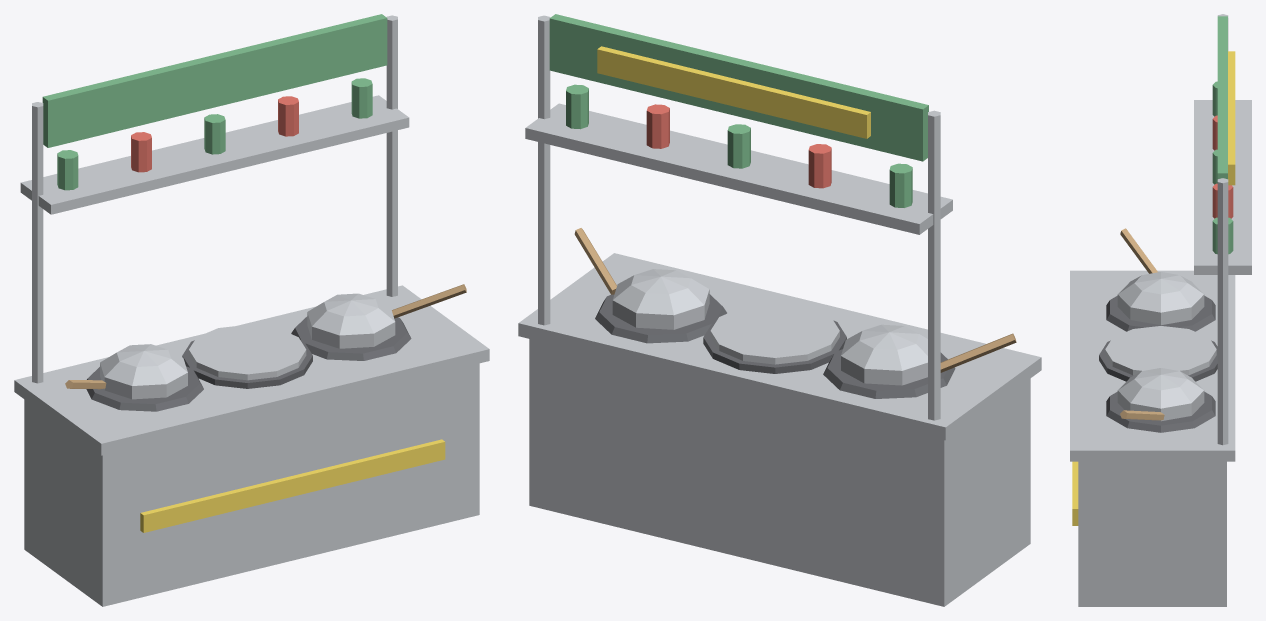
Rendered from street-food-market-and-food-trucks-wok-and-crepe-stati-d65a4291__34289.glb.
3 renders of one model, left to right at view 1: azimuth 30°, elevation 25°; view 2: azimuth 150°, elevation 25°; view 3: azimuth 270°, elevation 25°, orthographic. The views are drawn at different scales.
Parts seen in each view (by area): view 1: wok-and-crepe-station-steel, wok-and-crepe-station-leaf, wok-and-crepe-station-canary, wok-and-crepe-station-charcoal, wok-and-crepe-station-scarlet, wok-and-crepe-station-timber; view 2: wok-and-crepe-station-steel, wok-and-crepe-station-leaf, wok-and-crepe-station-canary, wok-and-crepe-station-charcoal, wok-and-crepe-station-scarlet, wok-and-crepe-station-timber; view 3: wok-and-crepe-station-steel, wok-and-crepe-station-charcoal, wok-and-crepe-station-leaf, wok-and-crepe-station-canary, wok-and-crepe-station-timber, wok-and-crepe-station-scarlet.
Boxes of the visible parts, x1,y1,x2,y2 form: wok-and-crepe-station-steel: [14, 15, 489, 606]; wok-and-crepe-station-leaf: [42, 14, 387, 190]; wok-and-crepe-station-canary: [140, 439, 445, 532]; wok-and-crepe-station-charcoal: [86, 316, 411, 411]; wok-and-crepe-station-scarlet: [131, 96, 298, 172]; wok-and-crepe-station-timber: [65, 284, 466, 389]; wok-and-crepe-station-steel: [518, 15, 1041, 606]; wok-and-crepe-station-leaf: [549, 14, 928, 207]; wok-and-crepe-station-canary: [597, 46, 870, 138]; wok-and-crepe-station-charcoal: [595, 294, 955, 398]; wok-and-crepe-station-scarlet: [646, 104, 831, 188]; wok-and-crepe-station-timber: [574, 228, 1016, 372]; wok-and-crepe-station-steel: [1070, 14, 1251, 606]; wok-and-crepe-station-charcoal: [1099, 295, 1217, 432]; wok-and-crepe-station-leaf: [1212, 16, 1233, 254]; wok-and-crepe-station-canary: [1072, 51, 1235, 525]; wok-and-crepe-station-timber: [1120, 228, 1164, 420]; wok-and-crepe-station-scarlet: [1212, 115, 1233, 218].
Size of the model in its own units: 2.13 by 2.27 by 0.8801.
